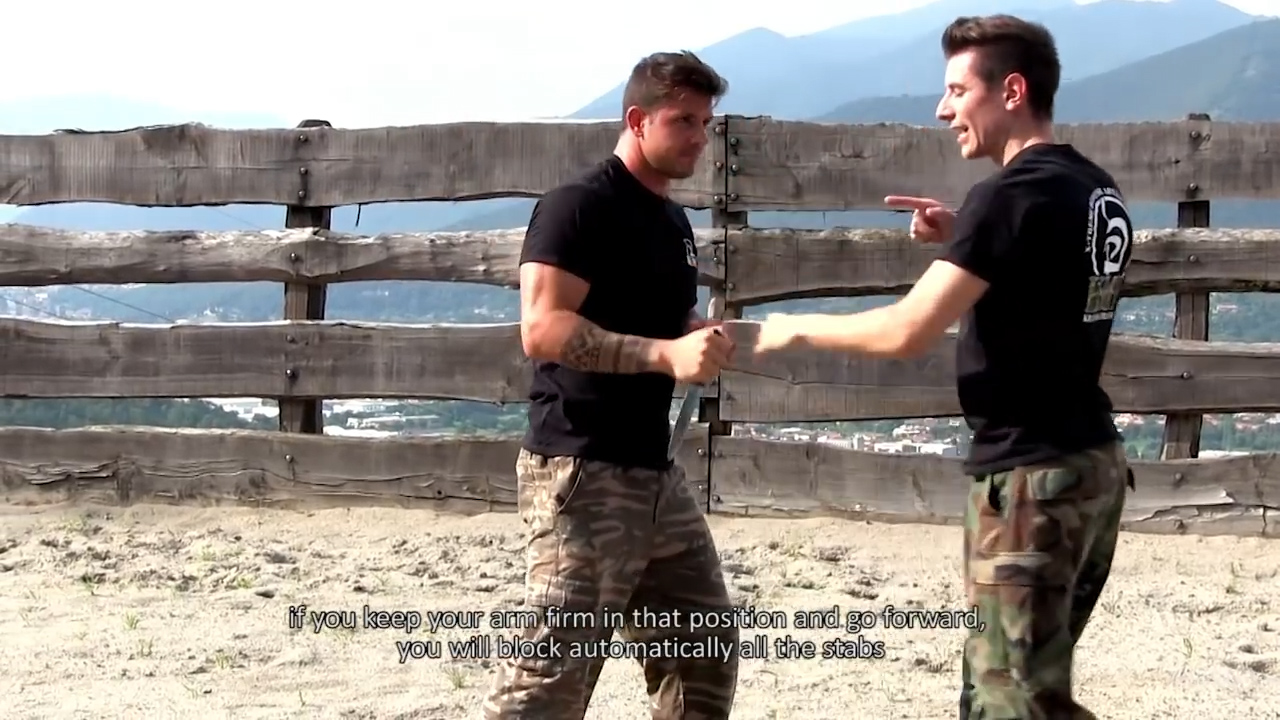knife: (658, 333, 738, 472)
